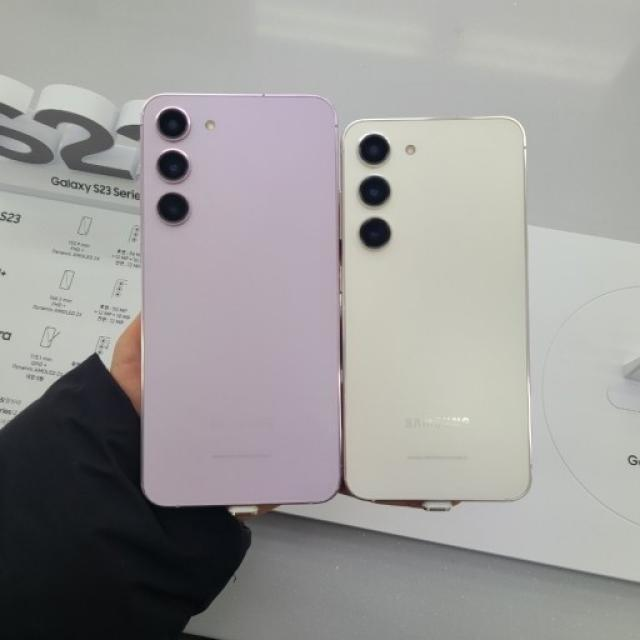phone: (143, 90, 343, 508), (342, 111, 536, 503)
